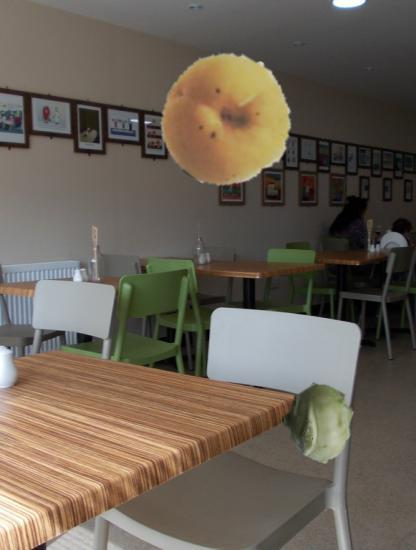Kohlrabi: (276, 381, 360, 465)
Peach: (161, 53, 296, 188)
